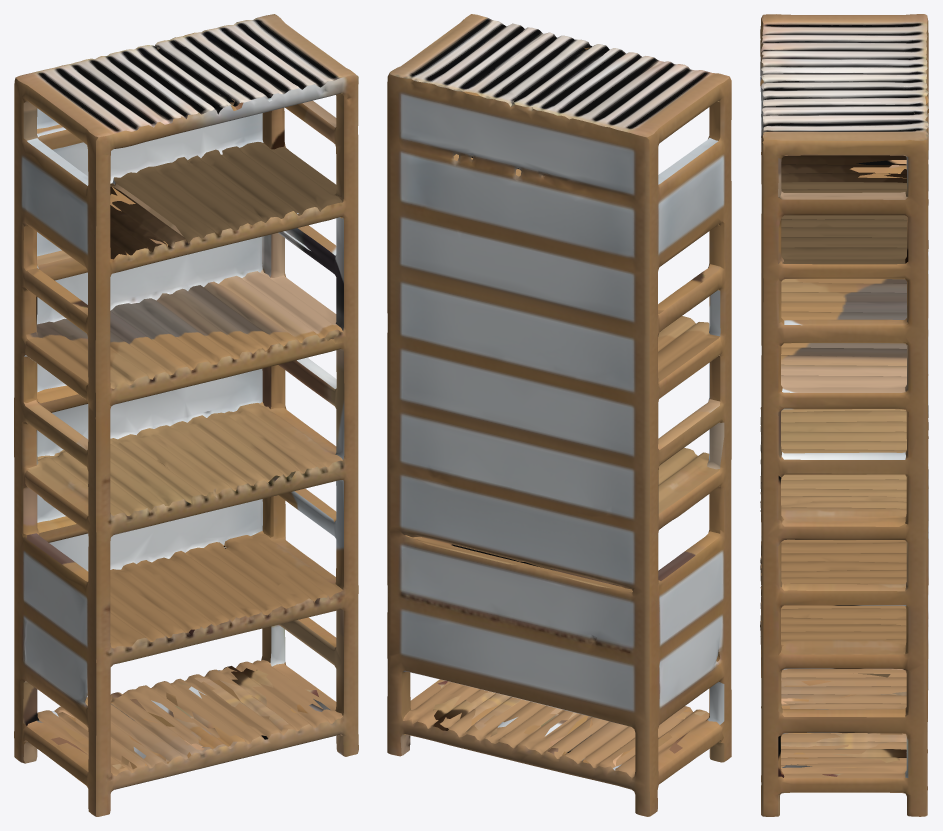
Rendered from shelf__shelf#2.glb.
3 renders of one model, left to right at view 1: azimuth 30°, elevation 25°; view 2: azimuth 150°, elevation 25°; view 3: azimuth 270°, elevation 25°, orthographic.
Parts seen in each view (by area): view 1: tmpuytrznna.ply; view 2: tmpuytrznna.ply; view 3: tmpuytrznna.ply.
Boxes of the visible parts, x1,y1,x2,y2 form: tmpuytrznna.ply: [14, 14, 358, 816]; tmpuytrznna.ply: [387, 14, 731, 816]; tmpuytrznna.ply: [760, 14, 928, 816].
Bounding box in the file's own units: 0.8062 × 1.99 × 0.4487.
Materials: 1 (1 with a texture image).
